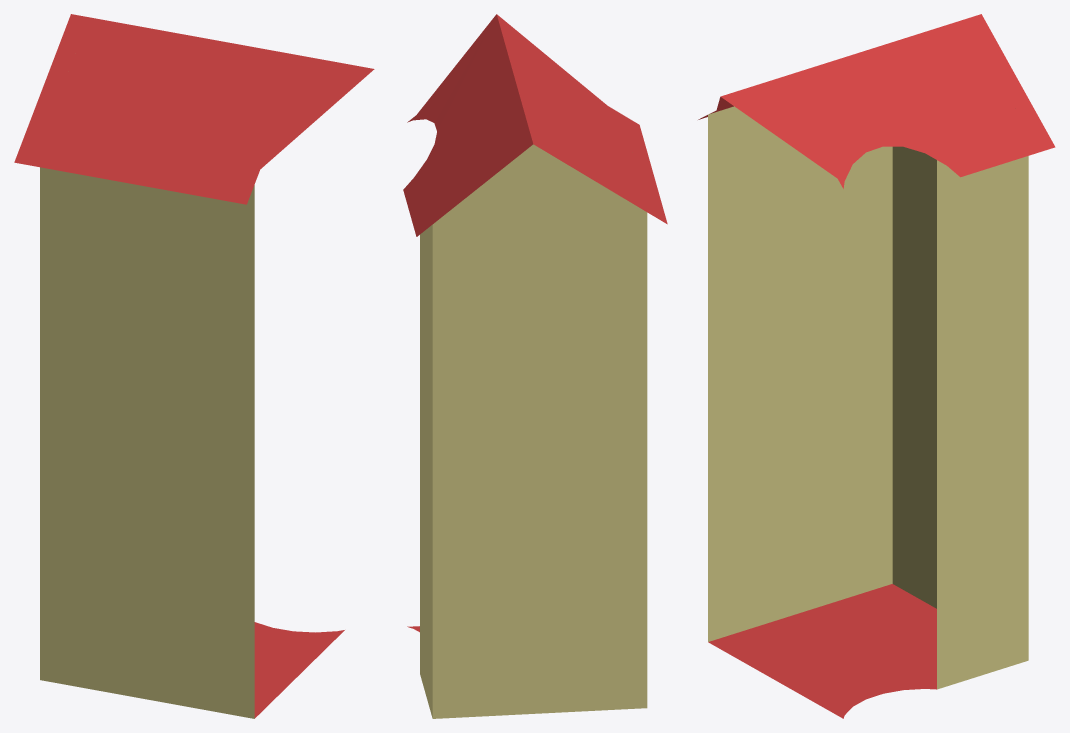
3 renders of one model, left to right at view 1: azimuth 30°, elevation 25°; view 2: azimuth 150°, elevation 25°; view 3: azimuth 270°, elevation 25°, orthographic. The views are drawn at different scales.
Bounding box in the file's own units: 8.96 × 9.28 × 17.28.
